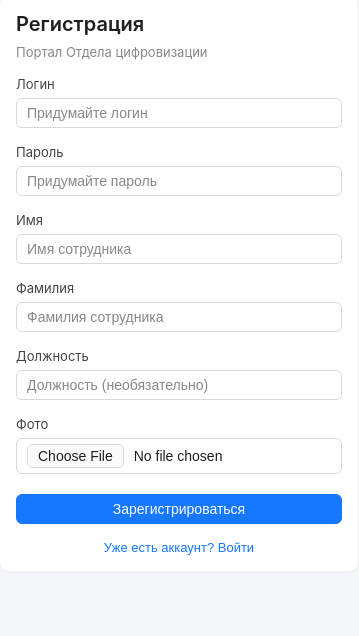
Test: RegisterPage › не отправляет форму со слабым паролем и показывает требования
The width and height of the screenshot is (359, 636).
Type "new" into the field with placeholder "Придумайте логин".
click(179, 113); type("new")  # box [16,98,342,128]
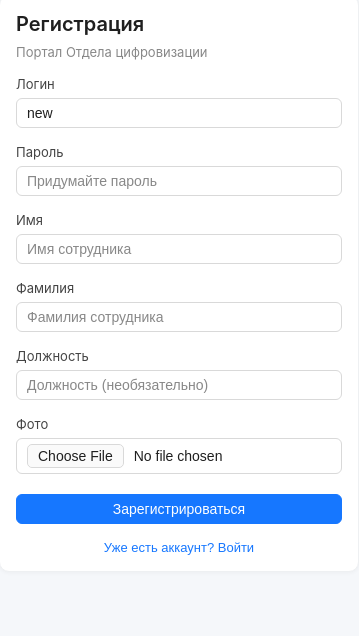
Type "pass" into the password field with placeholder "Придумайте пароль".
click(179, 181); type("pass")  # box [16,166,342,196]
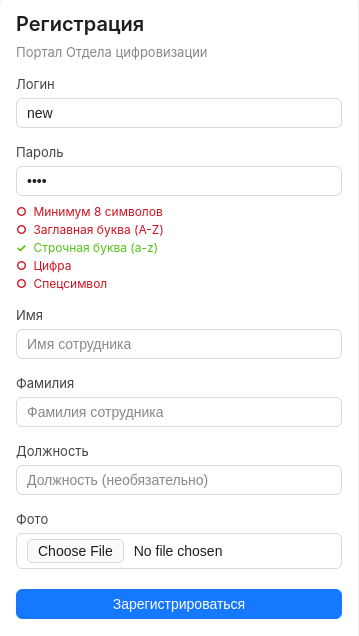
Click the button "Зарегистрироваться".
click(179, 604)  # box [16,589,342,619]
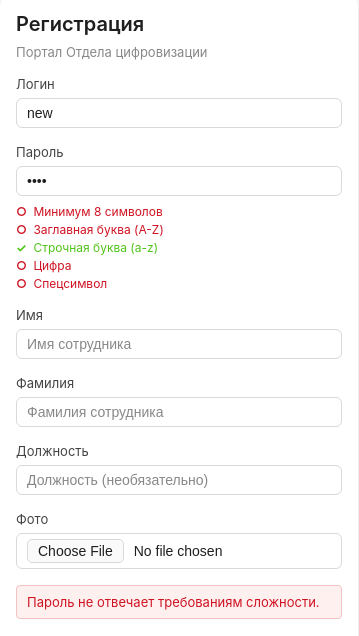
Result: the list item "Минимум 8 символов" is shown at [33,204,163,219]
Result: the text "Пароль не отвечает требованиям сложности." is shown at [16,585,342,619]
